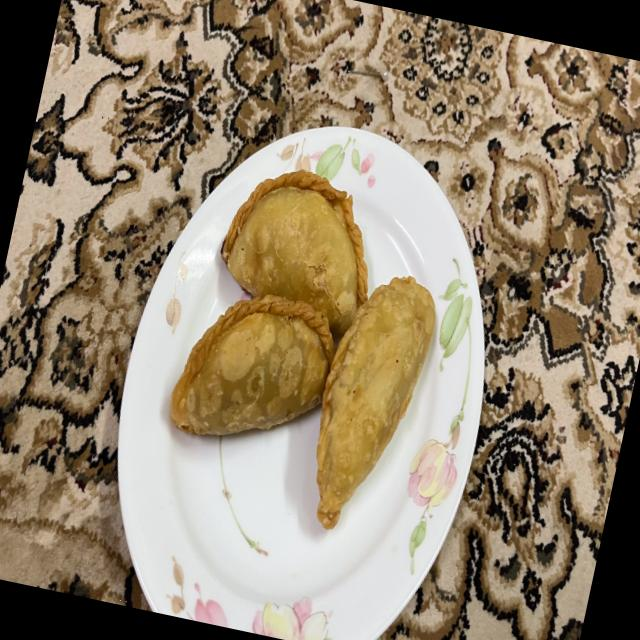karipap: (316, 275, 435, 529), (221, 168, 368, 336), (170, 294, 334, 436)
